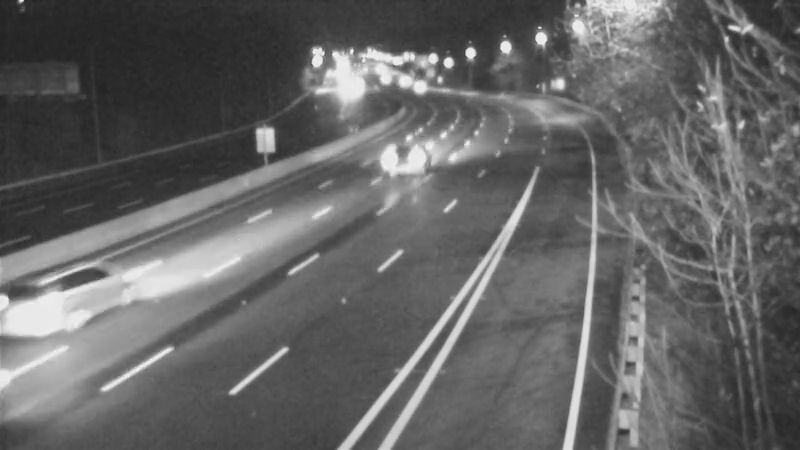vehicle: (363, 112, 443, 192), (36, 241, 116, 321), (379, 59, 429, 109), (394, 61, 444, 111)
